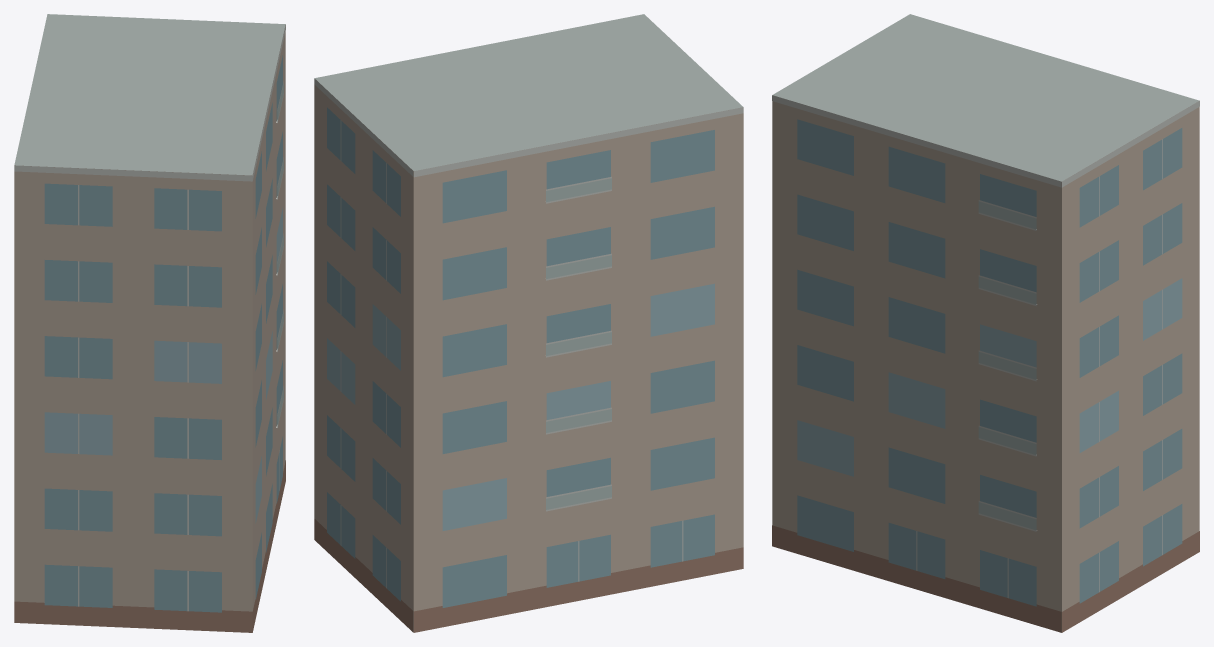
The model's file is survey-upis-32735983.glb.
3 renders of one model, left to right at view 1: azimuth 30°, elevation 25°; view 2: azimuth 150°, elevation 25°; view 3: azimuth 270°, elevation 25°, orthographic. The views are drawn at different scales.
Visible parts, largest first — view 1: survey-upis-32735983.tmp; view 2: survey-upis-32735983.tmp; view 3: survey-upis-32735983.tmp.
Part boxes in pixels (x1,y1,x2,y2): survey-upis-32735983.tmp: [14, 14, 285, 632]; survey-upis-32735983.tmp: [314, 14, 743, 632]; survey-upis-32735983.tmp: [772, 14, 1199, 632].
Bounding box in the file's own units: 14.59 × 18.3 × 15.72.
